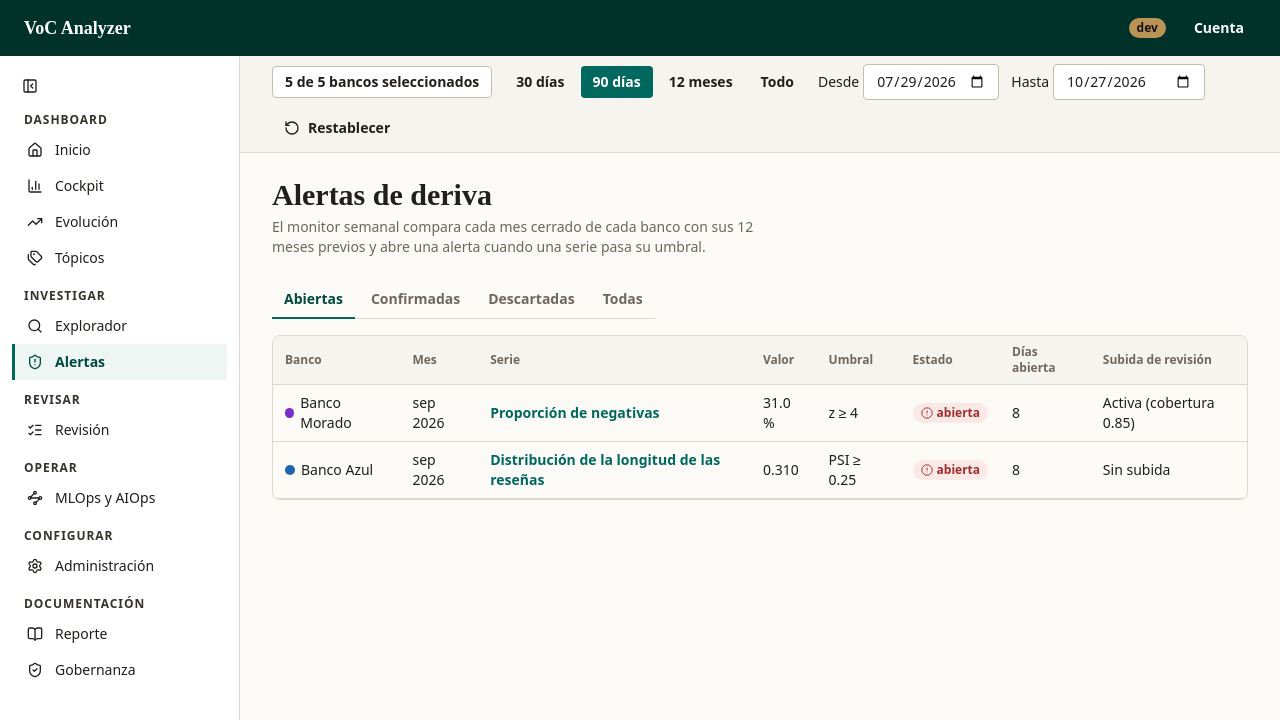
Test: bandeja de alertas › muestra las abiertas por defecto y filtra por estado
Expected: the link "Distribución de la longitud de las reseñas" is shown, x1=490 y1=450 x2=720 y2=489
Expected: the text "Palabras por reseña" is not shown
Click the tab "Confirmadas". click: (416, 300)
box: x1=359 y1=281 x2=472 y2=319
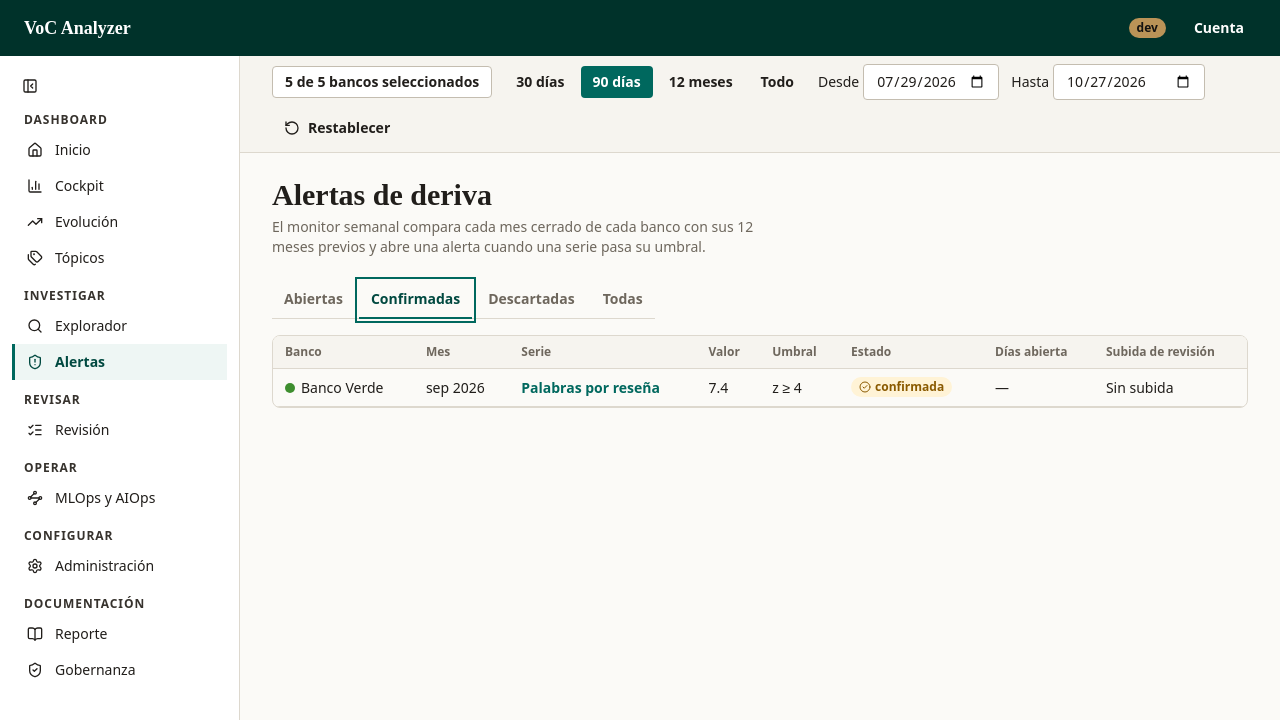
Expected: the link "Palabras por reseña" is shown, x1=521 y1=378 x2=660 y2=396
Expected: the link "Proporción de negativas" is gone
Click the tab "Descartadas". click: (531, 300)
box: x1=476 y1=281 x2=587 y2=319
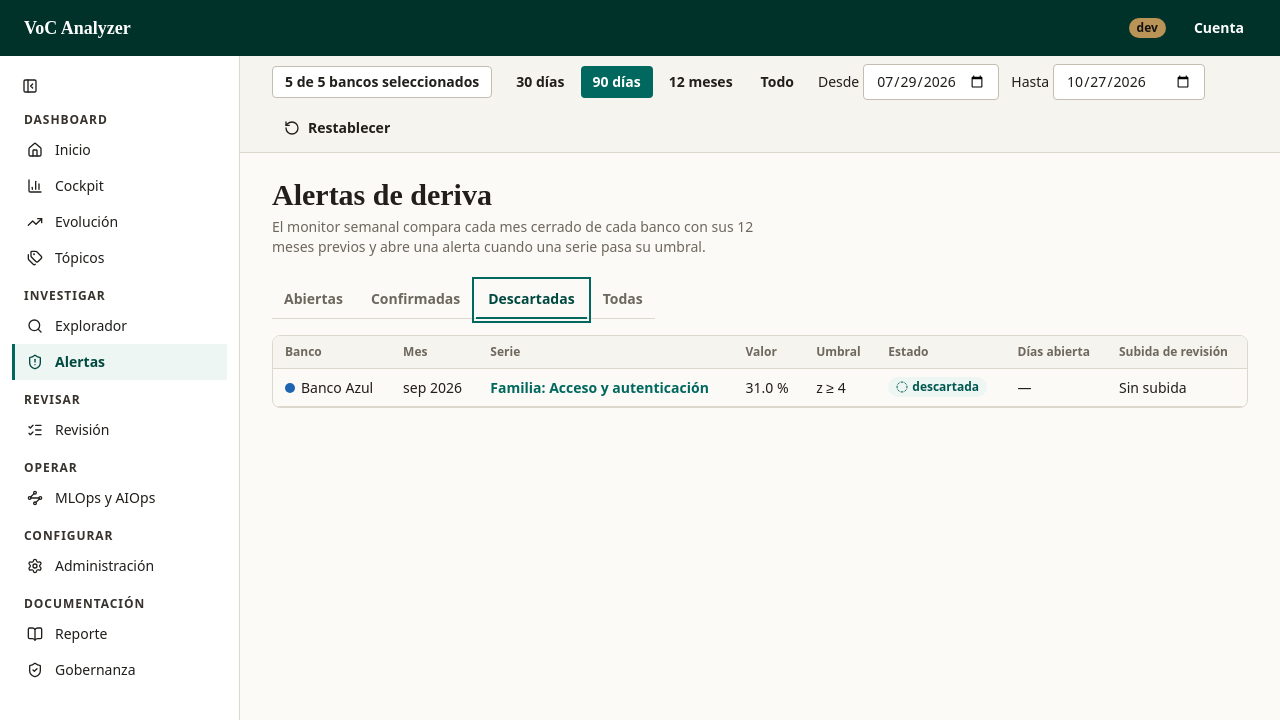
Expected: the link "Familia: Acceso y autenticación" is shown, x1=490 y1=378 x2=709 y2=396
Click the tab "Todas". click: (623, 300)
box: x1=591 y1=281 x2=655 y2=319
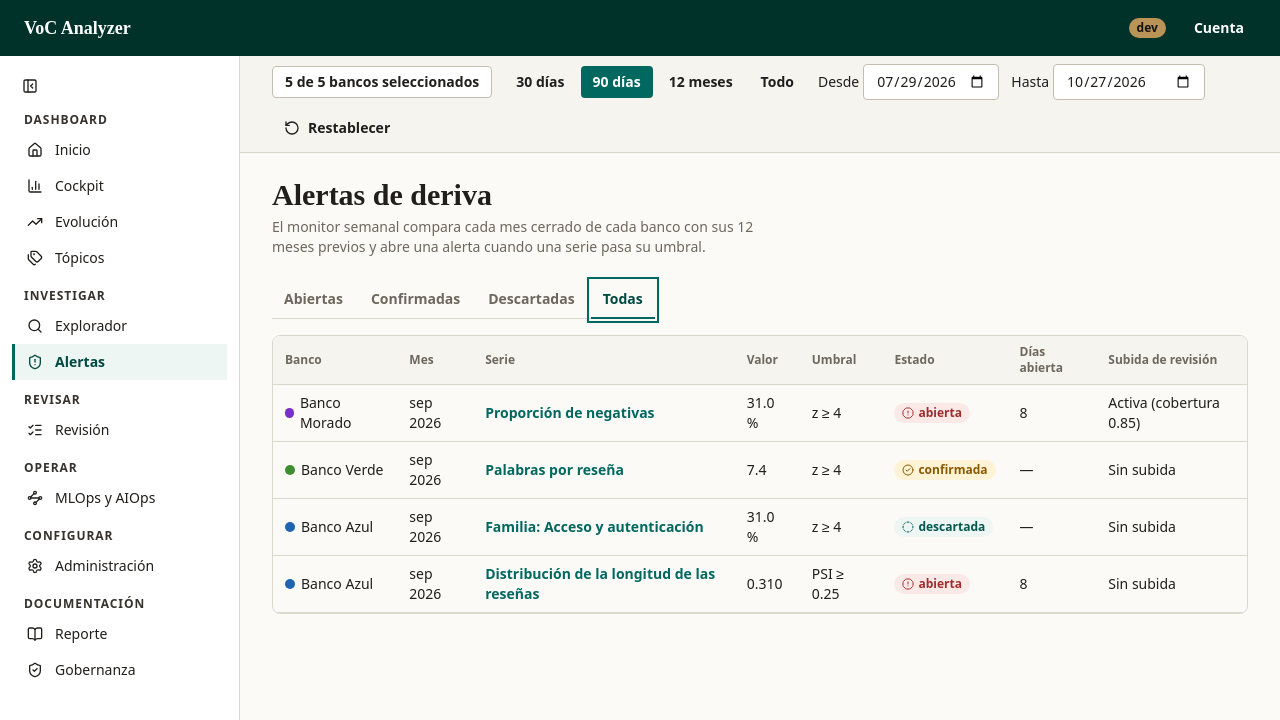
Expected: the number of rows is 5, x1=273 y1=336 x2=1247 y2=384; x1=273 y1=384 x2=1247 y2=442; x1=273 y1=442 x2=1247 y2=498; x1=273 y1=498 x2=1247 y2=556; x1=273 y1=556 x2=1247 y2=612
